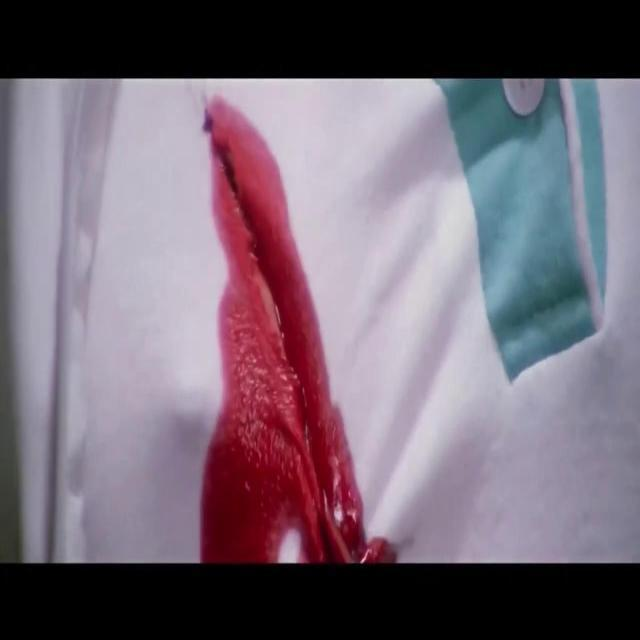flood: (189, 110, 406, 568)
